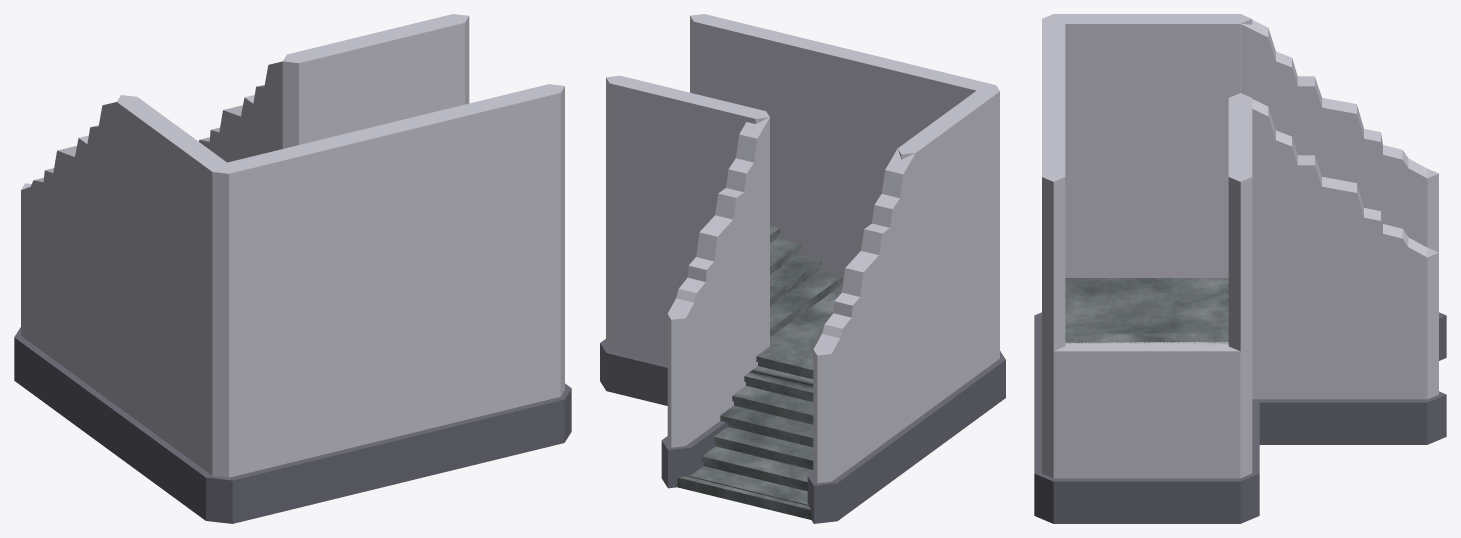
File: corner_stair_03.fbx
The picture shows the model from 3 angles, left to right: view 1: azimuth 30°, elevation 25°; view 2: azimuth 150°, elevation 25°; view 3: azimuth 270°, elevation 25°; orthographic projection. The views are drawn at different scales.
Parts seen in each view (by area): view 1: wall_corner_8, corner_01_1, wall_straight_9, corner_01_2, wall_01_4, wall_straight_10, wall_ruined_10, wall_ruined_9; view 2: wall_corner_8, corner_01_8, wall_straight_10, wall_straight_9, wall_01_4, corner_01_1, stairs_07_5, wall_ruined_10, wall_ruined_9, corner_01_2, stairs_07_7, block_default_11 (+1 smaller); view 3: corner_01_2, corner_01_8, wall_corner_8, wall_ruined_9, corner_01_1, wall_ruined_10, block_default_11, wall_straight_10, wall_straight_9, wall_01_4, stairs_07_7.
Part boxes in pixels (x1,y1,x2,y2): wall_corner_8: (116,95,398,347); corner_01_1: (110,276,400,523); wall_straight_9: (381,84,564,306); corner_01_2: (394,260,571,483); wall_01_4: (14,206,116,450); wall_straight_10: (283,14,469,144); wall_ruined_10: (21,97,136,275); wall_ruined_9: (199,56,302,162); wall_corner_8: (836,49,999,304); corner_01_8: (600,236,769,488); wall_straight_10: (606,75,769,256); wall_straight_9: (690,14,853,209); wall_01_4: (807,306,921,523); corner_01_1: (840,210,1005,459); stairs_07_5: (687,346,813,505); wall_ruined_10: (813,148,915,368); wall_ruined_9: (667,111,769,333); corner_01_2: (600,193,839,390); stairs_07_7: (770,225,842,336); block_default_11: (770,286,842,356); corner_01_2: (1034,342,1259,523); corner_01_8: (1252,267,1446,473); wall_corner_8: (1042,14,1252,193); wall_ruined_9: (1229,93,1438,272); corner_01_1: (1034,193,1228,397); wall_ruined_10: (1231,14,1438,193); block_default_11: (1065,278,1228,333); wall_straight_10: (1228,93,1252,351); wall_straight_9: (1042,94,1065,351); wall_01_4: (1360,188,1446,360); stairs_07_7: (1065,333,1228,343).
Bounding box in the file's own units: 22.05 × 20 × 22.05.
